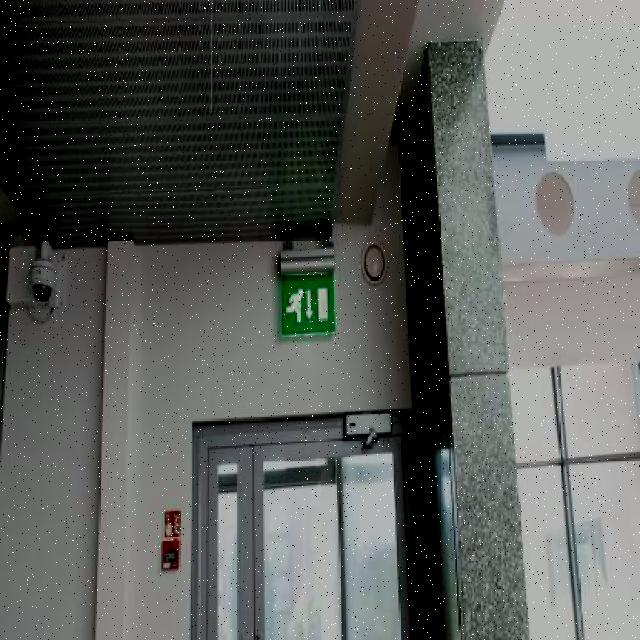emergency_exit: (277, 268, 336, 338), (160, 509, 183, 572)
